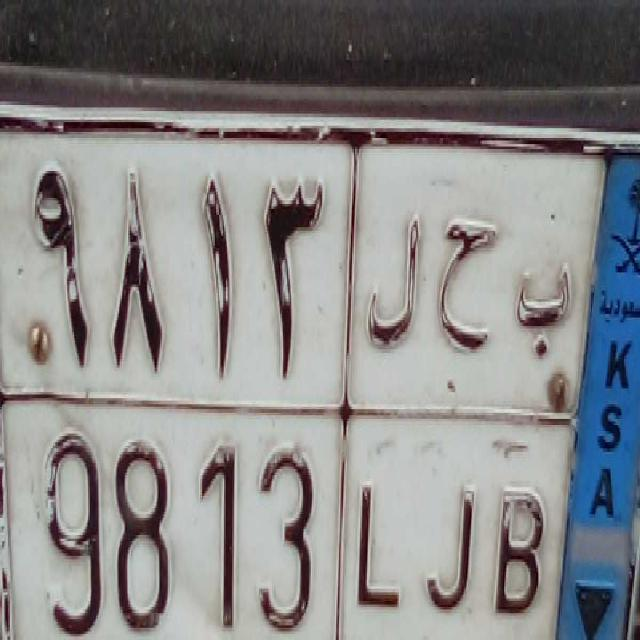license_plate: (17, 387, 565, 640)
